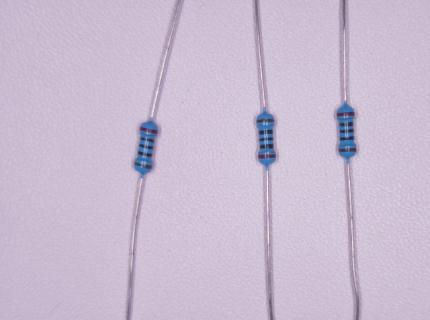Black band: (138, 151, 153, 158), (139, 144, 154, 150), (140, 137, 154, 143), (259, 130, 273, 135), (260, 144, 273, 149), (340, 122, 353, 127), (339, 129, 354, 133), (340, 136, 354, 140), (259, 138, 273, 141)
Brown band: (134, 162, 152, 169), (257, 119, 274, 123), (339, 148, 356, 152)
Red band: (140, 127, 158, 134), (258, 155, 276, 159), (337, 112, 355, 116)
